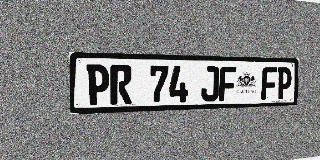4: (169, 66, 188, 103)
7: (149, 65, 169, 103)
F: (219, 66, 237, 101), (261, 67, 277, 100)
J: (201, 66, 219, 102)
P: (86, 64, 109, 105), (276, 67, 292, 99)
R: (110, 65, 132, 105)
